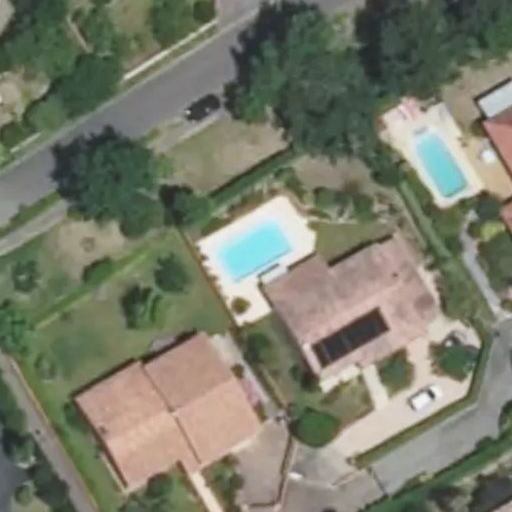pool: (216, 222, 292, 284), (412, 129, 467, 198)
